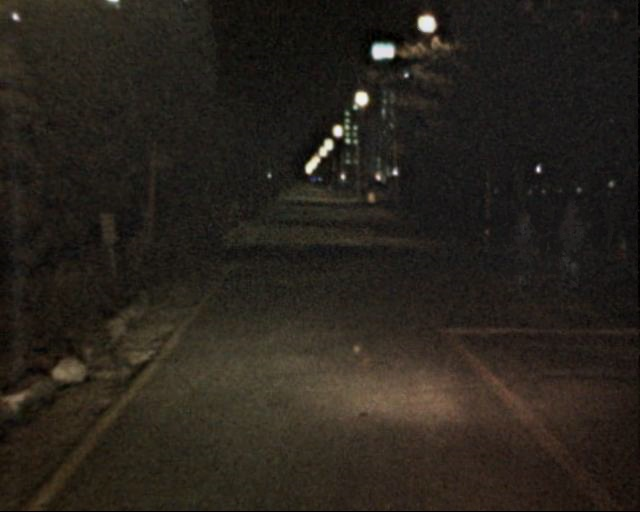person: (550, 196, 593, 302), (505, 211, 541, 299)
